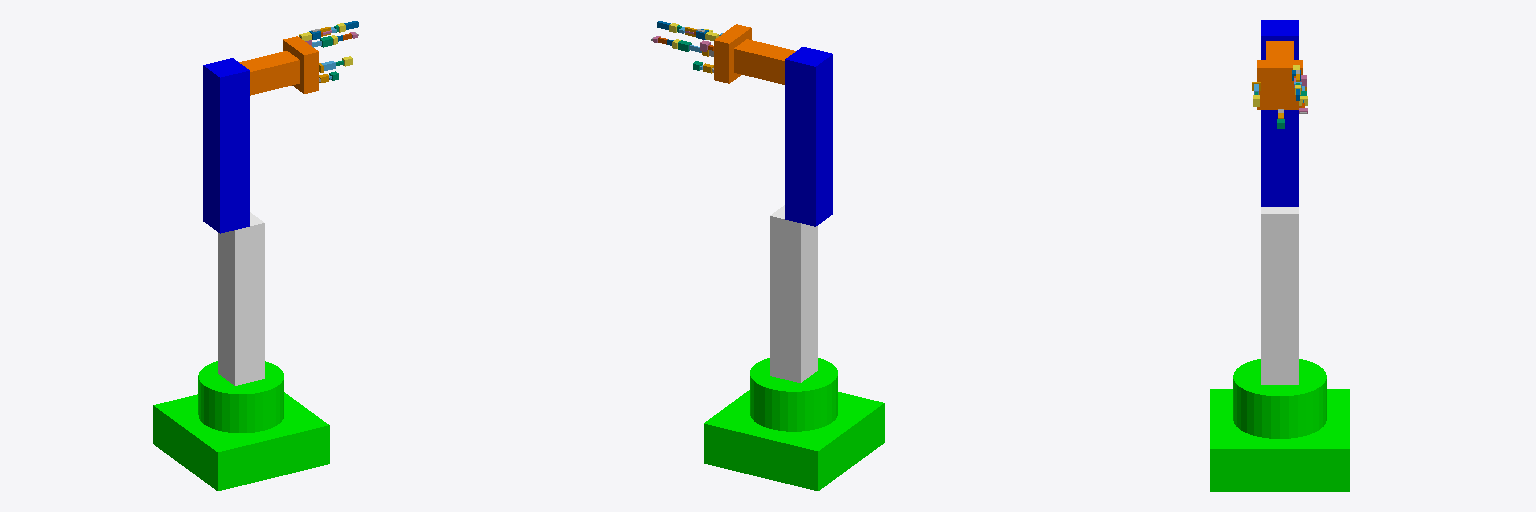
--- Facts derived from the render (not from the file) ---
The picture shows the robot from 3 angles, left to right: view 1: azimuth 30°, elevation 25°; view 2: azimuth 150°, elevation 25°; view 3: azimuth 270°, elevation 25°; orthographic projection.
Robot: robot — 37 links, 36 joints (33 revolute, 1 continuous, 2 fixed); root link base_link; default pose: every joint at zero.
Visible links, largest first — view 1: base_link, arm_link, support_link, wrist_link, palm_link; view 2: base_link, arm_link, support_link, wrist_link, palm_link; view 3: base_link, support_link, arm_link, palm_link, wrist_link.
Link boxes in pixels (bbox=[...]): base_link: bbox=[153, 361, 329, 490]; arm_link: bbox=[203, 58, 249, 233]; support_link: bbox=[218, 212, 264, 385]; wrist_link: bbox=[239, 51, 299, 95]; palm_link: bbox=[283, 36, 318, 93]; base_link: bbox=[704, 358, 884, 490]; arm_link: bbox=[785, 47, 832, 226]; support_link: bbox=[770, 205, 817, 382]; wrist_link: bbox=[734, 39, 795, 84]; palm_link: bbox=[714, 24, 751, 83]; base_link: bbox=[1210, 359, 1349, 491]; support_link: bbox=[1261, 207, 1298, 384]; arm_link: bbox=[1261, 20, 1298, 206]; palm_link: bbox=[1257, 60, 1302, 109]; wrist_link: bbox=[1266, 41, 1293, 59].
Size in the robot's own frame: 1.22 by 0.75 by 2.55 metres.
Geometry: primitives only (box / cylinder / sphere), no mesh files.

The robot description file, URDF, robot "robot":
<?xml version='1.0' encoding='utf-8'?>
<robot name="robot">
  <link name="base_link">
    <visual>
      <origin xyz="0 0 0.125" rpy="0 0 0" />
      <geometry>
        <box size="0.75 0.75 0.25" />
      </geometry>
      <material name="green" />
    </visual>
    <visual>
      <origin xyz="0 0 0.375" rpy="0 0 0" />
      <geometry>
        <cylinder length="0.25" radius="0.25" />
      </geometry>
      <material name="green">
        <color rgba="0 1 0 1" />
      </material>
    </visual>
    <collision>
      <geometry>
        <box size="0.75 0.75 0.5" />
      </geometry>
    </collision>
    <inertial>
      <mass value="0.5" />
      <inertia ixx="0.034" ixy="0.0" ixz="0.0" iyy="0.034" iyz="0.0" izz="0.034" />
    </inertial>
  </link>
  <link name="support_link">
    <visual>
      <origin xyz="0 0 0.5" rpy="0 0 0" />
      <geometry>
        <box size="0.2 0.2 1" />
      </geometry>
      <material name="white">
        <color rgba="1 1 1 1" />
      </material>
    </visual>
    <collision>
      <geometry>
        <box size="0.2 0.2 1" />
      </geometry>
    </collision>
    <inertial>
      <mass value="0.1" />
      <inertia ixx="0.01" ixy="0.0" ixz="0.0" iyy="0.01" iyz="0.0" izz="0.01" />
    </inertial>
  </link>
  <joint name="support_joint" type="continuous">
    <origin xyz="0 0 0.5" rpy="0 0 0" />
    <parent link="base_link" />
    <child link="support_link" />
    <axis xyz="0 0 1" />
  </joint>
  <link name="arm_link">
    <visual>
      <origin xyz="0 0 0.5" rpy="0 0 0" />
      <geometry>
        <box size="0.2 0.2 1" />
      </geometry>
      <material name="blue">
        <color rgba="0 0 1 1" />
      </material>
    </visual>
    <collision>
      <geometry>
        <box size="0.2 0.2 1" />
      </geometry>
    </collision>
    <inertial>
      <mass value="0.1" />
      <inertia ixx="0.01" ixy="0.0" ixz="0.0" iyy="0.01" iyz="0.0" izz="0.01" />
    </inertial>
  </link>
  <joint name="arm_joint" type="revolute">
    <origin xyz="-0.1 0 1" rpy="0 0 0" />
    <parent link="support_link" />
    <child link="arm_link" />
    <axis xyz="0 1 0" />
    <limit lower="-3.14" upper="3.14" effort="1.0" velocity="1.0" />
  </joint>
  <link name="wrist_link">
    <visual>
      <origin xyz="0 0 0.25" rpy="0 0 0" />
      <geometry>
        <box size="0.15 0.15 0.5" />
      </geometry>
      <material name="orange">
        <color rgba="1 0.5 0 1" />
      </material>
    </visual>
    <collision>
      <geometry>
        <box size="0.15 0.15 0.5" />
      </geometry>
    </collision>
    <inertial>
      <mass value="0.1" />
      <inertia ixx="0.01" ixy="0.0" ixz="0.0" iyy="0.01" iyz="0.0" izz="0.01" />
    </inertial>
  </link>
  <joint name="wrist_joint" type="fixed">
    <origin xyz="0 0 0.9" rpy="0 1.571 0" />
    <parent link="arm_link" />
    <child link="wrist_link" />
  </joint>
  <link name="palm_link">
    <visual>
      <origin xyz="0 0 0.05" rpy="0 0 0" />
      <geometry>
        <box size="0.25 0.25 0.1" />
      </geometry>
      <material name="orange" />
    </visual>
    <collision>
      <geometry>
        <box size="0.25 0.25 0.1" />
      </geometry>
    </collision>
    <inertial>
      <mass value="0.1" />
      <inertia ixx="0.01" ixy="0.0" ixz="0.0" iyy="0.01" iyz="0.0" izz="0.01" />
    </inertial>
  </link>
  <joint name="palm_joint" type="fixed">
    <origin xyz="0 0 0.45" rpy="0 0 0" />
    <parent link="wrist_link" />
    <child link="palm_link" />
  </joint>
  <link name="finger_link_0_0">
    <visual>
      <origin xyz="0 0 0.0165" rpy="0 0 0" />
      <geometry>
        <box size="0.022 0.02 0.033" />
      </geometry>
    </visual>
    <collision>
      <geometry>
        <box size="0.022 0.02 0.033" />
      </geometry>
    </collision>
    <inertial>
      <mass value="0.004" />
      <inertia ixx="0.0" iyy="0.0" izz="0.0" ixy="0" ixz="0" iyz="0" />
    </inertial>
  </link>
  <joint name="finger_joint_palm_link_to_finger_link_0_0" type="revolute">
    <origin xyz="-0.073 0.125 0.1" rpy="0 0 0" />
    <parent link="palm_link" />
    <child link="finger_link_0_0" />
    <axis xyz="-1.0 0.0 0.0" />
    <limit lower="-3.142" upper="3.142" effort="10" velocity="10" />
  </joint>
  <link name="finger_link_0_1">
    <visual>
      <origin xyz="0 0 0.025" rpy="0 0 0" />
      <geometry>
        <box size="0.048 0.042 0.05" />
      </geometry>
    </visual>
    <collision>
      <geometry>
        <box size="0.048 0.042 0.05" />
      </geometry>
    </collision>
    <inertial>
      <mass value="0.03" />
      <inertia ixx="0.0" iyy="0.0" izz="0.0" ixy="0" ixz="0" iyz="0" />
    </inertial>
  </link>
  <joint name="finger_joint_finger_link_0_0_to_finger_link_0_1" type="revolute">
    <origin xyz="0.0 0.0 0.033" rpy="0 0 0" />
    <parent link="finger_link_0_0" />
    <child link="finger_link_0_1" />
    <axis xyz="0.0 1.0 0.0" />
    <limit lower="-3.142" upper="3.142" effort="10" velocity="10" />
  </joint>
  <link name="finger_link_1_0">
    <visual>
      <origin xyz="0 0 0.0385" rpy="0 0 0" />
      <geometry>
        <box size="0.019 0.029 0.077" />
      </geometry>
    </visual>
    <collision>
      <geometry>
        <box size="0.019 0.029 0.077" />
      </geometry>
    </collision>
    <inertial>
      <mass value="0.013" />
      <inertia ixx="0.0" iyy="0.0" izz="0.0" ixy="0" ixz="0" iyz="0" />
    </inertial>
  </link>
  <joint name="finger_joint_palm_link_to_finger_link_1_0" type="revolute">
    <origin xyz="0.125 0.006 0.1" rpy="0 0 0" />
    <parent link="palm_link" />
    <child link="finger_link_1_0" />
    <axis xyz="0.0 1.0 0.0" />
    <limit lower="-3.142" upper="3.142" effort="10" velocity="10" />
  </joint>
  <link name="finger_link_1_1">
    <visual>
      <origin xyz="0 0 0.029" rpy="0 0 0" />
      <geometry>
        <box size="0.038 0.031 0.058" />
      </geometry>
    </visual>
    <collision>
      <geometry>
        <box size="0.038 0.031 0.058" />
      </geometry>
    </collision>
    <inertial>
      <mass value="0.02" />
      <inertia ixx="0.0" iyy="0.0" izz="0.0" ixy="0" ixz="0" iyz="0" />
    </inertial>
  </link>
  <joint name="finger_joint_finger_link_1_0_to_finger_link_1_1" type="revolute">
    <origin xyz="0.0 0.0 0.077" rpy="0 0 0" />
    <parent link="finger_link_1_0" />
    <child link="finger_link_1_1" />
    <axis xyz="1.0 0.0 0.0" />
    <limit lower="-3.142" upper="3.142" effort="10" velocity="10" />
  </joint>
  <link name="finger_link_1_2">
    <visual>
      <origin xyz="0 0 0.009" rpy="0 0 0" />
      <geometry>
        <box size="0.014 0.037 0.018" />
      </geometry>
    </visual>
    <collision>
      <geometry>
        <box size="0.014 0.037 0.018" />
      </geometry>
    </collision>
    <inertial>
      <mass value="0.003" />
      <inertia ixx="0.0" iyy="0.0" izz="0.0" ixy="0" ixz="0" iyz="0" />
    </inertial>
  </link>
  <joint name="finger_joint_finger_link_1_1_to_finger_link_1_2" type="revolute">
    <origin xyz="0.0 0.0 0.058" rpy="0 0 0" />
    <parent link="finger_link_1_1" />
    <child link="finger_link_1_2" />
    <axis xyz="0.0 1.0 0.0" />
    <limit lower="-3.142" upper="3.142" effort="10" velocity="10" />
  </joint>
  <link name="finger_link_1_3">
    <visual>
      <origin xyz="0 0 0.0225" rpy="0 0 0" />
      <geometry>
        <box size="0.036 0.041 0.045" />
      </geometry>
    </visual>
    <collision>
      <geometry>
        <box size="0.036 0.041 0.045" />
      </geometry>
    </collision>
    <inertial>
      <mass value="0.02" />
      <inertia ixx="0.0" iyy="0.0" izz="0.0" ixy="0" ixz="0" iyz="0" />
    </inertial>
  </link>
  <joint name="finger_joint_finger_link_1_2_to_finger_link_1_3" type="revolute">
    <origin xyz="0.0 0.0 0.018" rpy="0 0 0" />
    <parent link="finger_link_1_2" />
    <child link="finger_link_1_3" />
    <axis xyz="0.0 1.0 0.0" />
    <limit lower="-3.142" upper="3.142" effort="10" velocity="10" />
  </joint>
  <link name="finger_link_2_0">
    <visual>
      <origin xyz="0 0 0.0335" rpy="0 0 0" />
      <geometry>
        <box size="0.034 0.038 0.067" />
      </geometry>
    </visual>
    <collision>
      <geometry>
        <box size="0.034 0.038 0.067" />
      </geometry>
    </collision>
    <inertial>
      <mass value="0.026" />
      <inertia ixx="0.0" iyy="0.0" izz="0.0" ixy="0" ixz="0" iyz="0" />
    </inertial>
  </link>
  <joint name="finger_joint_palm_link_to_finger_link_2_0" type="revolute">
    <origin xyz="-0.125 0.09 0.1" rpy="0 0 0" />
    <parent link="palm_link" />
    <child link="finger_link_2_0" />
    <axis xyz="0.0 -1.0 0.0" />
    <limit lower="-3.142" upper="3.142" effort="10" velocity="10" />
  </joint>
  <link name="finger_link_2_1">
    <visual>
      <origin xyz="0 0 0.029" rpy="0 0 0" />
      <geometry>
        <box size="0.041 0.047 0.058" />
      </geometry>
    </visual>
    <collision>
      <geometry>
        <box size="0.041 0.047 0.058" />
      </geometry>
    </collision>
    <inertial>
      <mass value="0.034" />
      <inertia ixx="0.0" iyy="0.0" izz="0.0" ixy="0" ixz="0" iyz="0" />
    </inertial>
  </link>
  <joint name="finger_joint_finger_link_2_0_to_finger_link_2_1" type="revolute">
    <origin xyz="0.0 0.0 0.067" rpy="0 0 0" />
    <parent link="finger_link_2_0" />
    <child link="finger_link_2_1" />
    <axis xyz="1.0 0.0 0.0" />
    <limit lower="-3.142" upper="3.142" effort="10" velocity="10" />
  </joint>
  <link name="finger_link_2_2">
    <visual>
      <origin xyz="0 0 0.009" rpy="0 0 0" />
      <geometry>
        <box size="0.019 0.031 0.018" />
      </geometry>
    </visual>
    <collision>
      <geometry>
        <box size="0.019 0.031 0.018" />
      </geometry>
    </collision>
    <inertial>
      <mass value="0.003" />
      <inertia ixx="0.0" iyy="0.0" izz="0.0" ixy="0" ixz="0" iyz="0" />
    </inertial>
  </link>
  <joint name="finger_joint_finger_link_2_1_to_finger_link_2_2" type="revolute">
    <origin xyz="0.0 0.0 0.058" rpy="0 0 0" />
    <parent link="finger_link_2_1" />
    <child link="finger_link_2_2" />
    <axis xyz="0.0 1.0 0.0" />
    <limit lower="-3.142" upper="3.142" effort="10" velocity="10" />
  </joint>
  <link name="finger_link_2_3">
    <visual>
      <origin xyz="0 0 0.0455" rpy="0 0 0" />
      <geometry>
        <box size="0.012 0.033 0.091" />
      </geometry>
    </visual>
    <collision>
      <geometry>
        <box size="0.012 0.033 0.091" />
      </geometry>
    </collision>
    <inertial>
      <mass value="0.011" />
      <inertia ixx="0.0" iyy="0.0" izz="0.0" ixy="0" ixz="0" iyz="0" />
    </inertial>
  </link>
  <joint name="finger_joint_finger_link_2_2_to_finger_link_2_3" type="revolute">
    <origin xyz="0.0 0.0 0.018" rpy="0 0 0" />
    <parent link="finger_link_2_2" />
    <child link="finger_link_2_3" />
    <axis xyz="1.0 1.0 0.0" />
    <limit lower="-3.142" upper="3.142" effort="10" velocity="10" />
  </joint>
  <link name="finger_link_3_0">
    <visual>
      <origin xyz="0 0 0.014" rpy="0 0 0" />
      <geometry>
        <box size="0.042 0.011 0.028" />
      </geometry>
    </visual>
    <collision>
      <geometry>
        <box size="0.042 0.011 0.028" />
      </geometry>
    </collision>
    <inertial>
      <mass value="0.004" />
      <inertia ixx="0.0" iyy="0.0" izz="0.0" ixy="0" ixz="0" iyz="0" />
    </inertial>
  </link>
  <joint name="finger_joint_palm_link_to_finger_link_3_0" type="revolute">
    <origin xyz="-0.043 0.125 0.1" rpy="0 0 0" />
    <parent link="palm_link" />
    <child link="finger_link_3_0" />
    <axis xyz="-1.0 0.0 0.0" />
    <limit lower="-3.142" upper="3.142" effort="10" velocity="10" />
  </joint>
  <link name="finger_link_3_1">
    <visual>
      <origin xyz="0 0 0.02" rpy="0 0 0" />
      <geometry>
        <box size="0.041 0.037 0.04" />
      </geometry>
    </visual>
    <collision>
      <geometry>
        <box size="0.041 0.037 0.04" />
      </geometry>
    </collision>
    <inertial>
      <mass value="0.018" />
      <inertia ixx="0.0" iyy="0.0" izz="0.0" ixy="0" ixz="0" iyz="0" />
    </inertial>
  </link>
  <joint name="finger_joint_finger_link_3_0_to_finger_link_3_1" type="revolute">
    <origin xyz="0.0 0.0 0.028" rpy="0 0 0" />
    <parent link="finger_link_3_0" />
    <child link="finger_link_3_1" />
    <axis xyz="0.0 1.0 0.0" />
    <limit lower="-3.142" upper="3.142" effort="10" velocity="10" />
  </joint>
  <link name="finger_link_3_2">
    <visual>
      <origin xyz="0 0 0.045" rpy="0 0 0" />
      <geometry>
        <box size="0.029 0.011 0.09" />
      </geometry>
    </visual>
    <collision>
      <geometry>
        <box size="0.029 0.011 0.09" />
      </geometry>
    </collision>
    <inertial>
      <mass value="0.009" />
      <inertia ixx="0.0" iyy="0.0" izz="0.0" ixy="0" ixz="0" iyz="0" />
    </inertial>
  </link>
  <joint name="finger_joint_finger_link_3_1_to_finger_link_3_2" type="revolute">
    <origin xyz="0.0 0.0 0.04" rpy="0 0 0" />
    <parent link="finger_link_3_1" />
    <child link="finger_link_3_2" />
    <axis xyz="1.0 0.0 0.0" />
    <limit lower="-3.142" upper="3.142" effort="10" velocity="10" />
  </joint>
  <link name="finger_link_3_3">
    <visual>
      <origin xyz="0 0 0.0345" rpy="0 0 0" />
      <geometry>
        <box size="0.043 0.04 0.069" />
      </geometry>
    </visual>
    <collision>
      <geometry>
        <box size="0.043 0.04 0.069" />
      </geometry>
    </collision>
    <inertial>
      <mass value="0.036" />
      <inertia ixx="0.0" iyy="0.0" izz="0.0" ixy="0" ixz="0" iyz="0" />
    </inertial>
  </link>
  <joint name="finger_joint_finger_link_3_2_to_finger_link_3_3" type="revolute">
    <origin xyz="0.0 0.0 0.09" rpy="0 0 0" />
    <parent link="finger_link_3_2" />
    <child link="finger_link_3_3" />
    <axis xyz="0.0 1.0 0.0" />
    <limit lower="-3.142" upper="3.142" effort="10" velocity="10" />
  </joint>
  <link name="finger_link_3_4">
    <visual>
      <origin xyz="0 0 0.0165" rpy="0 0 0" />
      <geometry>
        <box size="0.04 0.045 0.033" />
      </geometry>
    </visual>
    <collision>
      <geometry>
        <box size="0.04 0.045 0.033" />
      </geometry>
    </collision>
    <inertial>
      <mass value="0.018" />
      <inertia ixx="0.0" iyy="0.0" izz="0.0" ixy="0" ixz="0" iyz="0" />
    </inertial>
  </link>
  <joint name="finger_joint_finger_link_3_3_to_finger_link_3_4" type="revolute">
    <origin xyz="0.0 0.0 0.069" rpy="0 0 0" />
    <parent link="finger_link_3_3" />
    <child link="finger_link_3_4" />
    <axis xyz="1.0 0.0 0.0" />
    <limit lower="-3.142" upper="3.142" effort="10" velocity="10" />
  </joint>
  <link name="finger_link_3_5">
    <visual>
      <origin xyz="0 0 0.021" rpy="0 0 0" />
      <geometry>
        <box size="0.031 0.01 0.042" />
      </geometry>
    </visual>
    <collision>
      <geometry>
        <box size="0.031 0.01 0.042" />
      </geometry>
    </collision>
    <inertial>
      <mass value="0.004" />
      <inertia ixx="0.0" iyy="0.0" izz="0.0" ixy="0" ixz="0" iyz="0" />
    </inertial>
  </link>
  <joint name="finger_joint_finger_link_3_4_to_finger_link_3_5" type="revolute">
    <origin xyz="0.0 0.0 0.033" rpy="0 0 0" />
    <parent link="finger_link_3_4" />
    <child link="finger_link_3_5" />
    <axis xyz="0.0 1.0 0.0" />
    <limit lower="-3.142" upper="3.142" effort="10" velocity="10" />
  </joint>
  <link name="finger_link_3_6">
    <visual>
      <origin xyz="0 0 0.029" rpy="0 0 0" />
      <geometry>
        <box size="0.029 0.015 0.058" />
      </geometry>
    </visual>
    <collision>
      <geometry>
        <box size="0.029 0.015 0.058" />
      </geometry>
    </collision>
    <inertial>
      <mass value="0.008" />
      <inertia ixx="0.0" iyy="0.0" izz="0.0" ixy="0" ixz="0" iyz="0" />
    </inertial>
  </link>
  <joint name="finger_joint_finger_link_3_5_to_finger_link_3_6" type="revolute">
    <origin xyz="0.0 0.0 0.042" rpy="0 0 0" />
    <parent link="finger_link_3_5" />
    <child link="finger_link_3_6" />
    <axis xyz="0.0 1.0 0.0" />
    <limit lower="-3.142" upper="3.142" effort="10" velocity="10" />
  </joint>
  <link name="finger_link_3_7">
    <visual>
      <origin xyz="0 0 0.014" rpy="0 0 0" />
      <geometry>
        <box size="0.022 0.046 0.028" />
      </geometry>
    </visual>
    <collision>
      <geometry>
        <box size="0.022 0.046 0.028" />
      </geometry>
    </collision>
    <inertial>
      <mass value="0.009" />
      <inertia ixx="0.0" iyy="0.0" izz="0.0" ixy="0" ixz="0" iyz="0" />
    </inertial>
  </link>
  <joint name="finger_joint_finger_link_3_6_to_finger_link_3_7" type="revolute">
    <origin xyz="0.0 0.0 0.058" rpy="0 0 0" />
    <parent link="finger_link_3_6" />
    <child link="finger_link_3_7" />
    <axis xyz="1.0 1.0 0.0" />
    <limit lower="-3.142" upper="3.142" effort="10" velocity="10" />
  </joint>
  <link name="finger_link_3_8">
    <visual>
      <origin xyz="0 0 0.0055" rpy="0 0 0" />
      <geometry>
        <box size="0.011 0.037 0.011" />
      </geometry>
    </visual>
    <collision>
      <geometry>
        <box size="0.011 0.037 0.011" />
      </geometry>
    </collision>
    <inertial>
      <mass value="0.001" />
      <inertia ixx="0.0" iyy="0.0" izz="0.0" ixy="0" ixz="0" iyz="0" />
    </inertial>
  </link>
  <joint name="finger_joint_finger_link_3_7_to_finger_link_3_8" type="revolute">
    <origin xyz="0.0 0.0 0.028" rpy="0 0 0" />
    <parent link="finger_link_3_7" />
    <child link="finger_link_3_8" />
    <axis xyz="0.0 1.0 0.0" />
    <limit lower="-3.142" upper="3.142" effort="10" velocity="10" />
  </joint>
  <link name="finger_link_4_0">
    <visual>
      <origin xyz="0 0 0.008" rpy="0 0 0" />
      <geometry>
        <box size="0.044 0.047 0.016" />
      </geometry>
    </visual>
    <collision>
      <geometry>
        <box size="0.044 0.047 0.016" />
      </geometry>
    </collision>
    <inertial>
      <mass value="0.01" />
      <inertia ixx="0.0" iyy="0.0" izz="0.0" ixy="0" ixz="0" iyz="0" />
    </inertial>
  </link>
  <joint name="finger_joint_palm_link_to_finger_link_4_0" type="revolute">
    <origin xyz="-0.019 -0.125 0.1" rpy="0 0 0" />
    <parent link="palm_link" />
    <child link="finger_link_4_0" />
    <axis xyz="1.0 0.0 0.0" />
    <limit lower="-3.142" upper="3.142" effort="10" velocity="10" />
  </joint>
  <link name="finger_link_4_1">
    <visual>
      <origin xyz="0 0 0.043" rpy="0 0 0" />
      <geometry>
        <box size="0.04 0.031 0.086" />
      </geometry>
    </visual>
    <collision>
      <geometry>
        <box size="0.04 0.031 0.086" />
      </geometry>
    </collision>
    <inertial>
      <mass value="0.032" />
      <inertia ixx="0.0" iyy="0.0" izz="0.0" ixy="0" ixz="0" iyz="0" />
    </inertial>
  </link>
  <joint name="finger_joint_finger_link_4_0_to_finger_link_4_1" type="revolute">
    <origin xyz="0.0 0.0 0.016" rpy="0 0 0" />
    <parent link="finger_link_4_0" />
    <child link="finger_link_4_1" />
    <axis xyz="0.0 1.0 0.0" />
    <limit lower="-3.142" upper="3.142" effort="10" velocity="10" />
  </joint>
  <link name="finger_link_4_2">
    <visual>
      <origin xyz="0 0 0.0305" rpy="0 0 0" />
      <geometry>
        <box size="0.021 0.014 0.061" />
      </geometry>
    </visual>
    <collision>
      <geometry>
        <box size="0.021 0.014 0.061" />
      </geometry>
    </collision>
    <inertial>
      <mass value="0.005" />
      <inertia ixx="0.0" iyy="0.0" izz="0.0" ixy="0" ixz="0" iyz="0" />
    </inertial>
  </link>
  <joint name="finger_joint_finger_link_4_1_to_finger_link_4_2" type="revolute">
    <origin xyz="0.0 0.0 0.086" rpy="0 0 0" />
    <parent link="finger_link_4_1" />
    <child link="finger_link_4_2" />
    <axis xyz="1.0 0.0 0.0" />
    <limit lower="-3.142" upper="3.142" effort="10" velocity="10" />
  </joint>
  <link name="finger_link_4_3">
    <visual>
      <origin xyz="0 0 0.0265" rpy="0 0 0" />
      <geometry>
        <box size="0.042 0.033 0.053" />
      </geometry>
    </visual>
    <collision>
      <geometry>
        <box size="0.042 0.033 0.053" />
      </geometry>
    </collision>
    <inertial>
      <mass value="0.022" />
      <inertia ixx="0.0" iyy="0.0" izz="0.0" ixy="0" ixz="0" iyz="0" />
    </inertial>
  </link>
  <joint name="finger_joint_finger_link_4_2_to_finger_link_4_3" type="revolute">
    <origin xyz="0.0 0.0 0.061" rpy="0 0 0" />
    <parent link="finger_link_4_2" />
    <child link="finger_link_4_3" />
    <axis xyz="1.0 0.0 0.0" />
    <limit lower="-3.142" upper="3.142" effort="10" velocity="10" />
  </joint>
  <link name="finger_link_5_0">
    <visual>
      <origin xyz="0 0 0.0135" rpy="0 0 0" />
      <geometry>
        <box size="0.019 0.013 0.027" />
      </geometry>
    </visual>
    <collision>
      <geometry>
        <box size="0.019 0.013 0.027" />
      </geometry>
    </collision>
    <inertial>
      <mass value="0.002" />
      <inertia ixx="0.0" iyy="0.0" izz="0.0" ixy="0" ixz="0" iyz="0" />
    </inertial>
  </link>
  <joint name="finger_joint_palm_link_to_finger_link_5_0" type="revolute">
    <origin xyz="-0.125 0.096 0.1" rpy="0 0 0" />
    <parent link="palm_link" />
    <child link="finger_link_5_0" />
    <axis xyz="0.0 -1.0 0.0" />
    <limit lower="-3.142" upper="3.142" effort="10" velocity="10" />
  </joint>
  <link name="finger_link_5_1">
    <visual>
      <origin xyz="0 0 0.01" rpy="0 0 0" />
      <geometry>
        <box size="0.025 0.014 0.02" />
      </geometry>
    </visual>
    <collision>
      <geometry>
        <box size="0.025 0.014 0.02" />
      </geometry>
    </collision>
    <inertial>
      <mass value="0.002" />
      <inertia ixx="0.0" iyy="0.0" izz="0.0" ixy="0" ixz="0" iyz="0" />
    </inertial>
  </link>
  <joint name="finger_joint_finger_link_5_0_to_finger_link_5_1" type="revolute">
    <origin xyz="0.0 0.0 0.027" rpy="0 0 0" />
    <parent link="finger_link_5_0" />
    <child link="finger_link_5_1" />
    <axis xyz="1.0 0.0 0.0" />
    <limit lower="-3.142" upper="3.142" effort="10" velocity="10" />
  </joint>
  <link name="finger_link_5_2">
    <visual>
      <origin xyz="0 0 0.0165" rpy="0 0 0" />
      <geometry>
        <box size="0.026 0.014 0.033" />
      </geometry>
    </visual>
    <collision>
      <geometry>
        <box size="0.026 0.014 0.033" />
      </geometry>
    </collision>
    <inertial>
      <mass value="0.004" />
      <inertia ixx="0.0" iyy="0.0" izz="0.0" ixy="0" ixz="0" iyz="0" />
    </inertial>
  </link>
  <joint name="finger_joint_finger_link_5_1_to_finger_link_5_2" type="revolute">
    <origin xyz="0.0 0.0 0.02" rpy="0 0 0" />
    <parent link="finger_link_5_1" />
    <child link="finger_link_5_2" />
    <axis xyz="0.0 1.0 0.0" />
    <limit lower="-3.142" upper="3.142" effort="10" velocity="10" />
  </joint>
  <link name="finger_link_5_3">
    <visual>
      <origin xyz="0 0 0.024" rpy="0 0 0" />
      <geometry>
        <box size="0.05 0.02 0.048" />
      </geometry>
    </visual>
    <collision>
      <geometry>
        <box size="0.05 0.02 0.048" />
      </geometry>
    </collision>
    <inertial>
      <mass value="0.014" />
      <inertia ixx="0.0" iyy="0.0" izz="0.0" ixy="0" ixz="0" iyz="0" />
    </inertial>
  </link>
  <joint name="finger_joint_finger_link_5_2_to_finger_link_5_3" type="revolute">
    <origin xyz="0.0 0.0 0.033" rpy="0 0 0" />
    <parent link="finger_link_5_2" />
    <child link="finger_link_5_3" />
    <axis xyz="1.0 0.0 0.0" />
    <limit lower="-3.142" upper="3.142" effort="10" velocity="10" />
  </joint>
  <link name="finger_link_5_4">
    <visual>
      <origin xyz="0 0 0.037" rpy="0 0 0" />
      <geometry>
        <box size="0.044 0.018 0.074" />
      </geometry>
    </visual>
    <collision>
      <geometry>
        <box size="0.044 0.018 0.074" />
      </geometry>
    </collision>
    <inertial>
      <mass value="0.018" />
      <inertia ixx="0.0" iyy="0.0" izz="0.0" ixy="0" ixz="0" iyz="0" />
    </inertial>
  </link>
  <joint name="finger_joint_finger_link_5_3_to_finger_link_5_4" type="revolute">
    <origin xyz="0.0 0.0 0.048" rpy="0 0 0" />
    <parent link="finger_link_5_3" />
    <child link="finger_link_5_4" />
    <axis xyz="0.0 1.0 0.0" />
    <limit lower="-3.142" upper="3.142" effort="10" velocity="10" />
  </joint>
  <link name="finger_link_5_5">
    <visual>
      <origin xyz="0 0 0.0145" rpy="0 0 0" />
      <geometry>
        <box size="0.02 0.045 0.029" />
      </geometry>
    </visual>
    <collision>
      <geometry>
        <box size="0.02 0.045 0.029" />
      </geometry>
    </collision>
    <inertial>
      <mass value="0.008" />
      <inertia ixx="0.0" iyy="0.0" izz="0.0" ixy="0" ixz="0" iyz="0" />
    </inertial>
  </link>
  <joint name="finger_joint_finger_link_5_4_to_finger_link_5_5" type="revolute">
    <origin xyz="0.0 0.0 0.074" rpy="0 0 0" />
    <parent link="finger_link_5_4" />
    <child link="finger_link_5_5" />
    <axis xyz="0.0 1.0 0.0" />
    <limit lower="-3.142" upper="3.142" effort="10" velocity="10" />
  </joint>
  <link name="finger_link_5_6">
    <visual>
      <origin xyz="0 0 0.0115" rpy="0 0 0" />
      <geometry>
        <box size="0.036 0.02 0.023" />
      </geometry>
    </visual>
    <collision>
      <geometry>
        <box size="0.036 0.02 0.023" />
      </geometry>
    </collision>
    <inertial>
      <mass value="0.005" />
      <inertia ixx="0.0" iyy="0.0" izz="0.0" ixy="0" ixz="0" iyz="0" />
    </inertial>
  </link>
  <joint name="finger_joint_finger_link_5_5_to_finger_link_5_6" type="revolute">
    <origin xyz="0.0 0.0 0.029" rpy="0 0 0" />
    <parent link="finger_link_5_5" />
    <child link="finger_link_5_6" />
    <axis xyz="0.0 1.0 0.0" />
    <limit lower="-3.142" upper="3.142" effort="10" velocity="10" />
  </joint>
  <link name="finger_link_5_7">
    <visual>
      <origin xyz="0 0 0.022" rpy="0 0 0" />
      <geometry>
        <box size="0.04 0.037 0.044" />
      </geometry>
    </visual>
    <collision>
      <geometry>
        <box size="0.04 0.037 0.044" />
      </geometry>
    </collision>
    <inertial>
      <mass value="0.02" />
      <inertia ixx="0.0" iyy="0.0" izz="0.0" ixy="0" ixz="0" iyz="0" />
    </inertial>
  </link>
  <joint name="finger_joint_finger_link_5_6_to_finger_link_5_7" type="revolute">
    <origin xyz="0.0 0.0 0.023" rpy="0 0 0" />
    <parent link="finger_link_5_6" />
    <child link="finger_link_5_7" />
    <axis xyz="0.0 1.0 0.0" />
    <limit lower="-3.142" upper="3.142" effort="10" velocity="10" />
  </joint>
  <link name="finger_link_5_8">
    <visual>
      <origin xyz="0 0 0.043" rpy="0 0 0" />
      <geometry>
        <box size="0.034 0.024 0.086" />
      </geometry>
    </visual>
    <collision>
      <geometry>
        <box size="0.034 0.024 0.086" />
      </geometry>
    </collision>
    <inertial>
      <mass value="0.021" />
      <inertia ixx="0.0" iyy="0.0" izz="0.0" ixy="0" ixz="0" iyz="0" />
    </inertial>
  </link>
  <joint name="finger_joint_finger_link_5_7_to_finger_link_5_8" type="revolute">
    <origin xyz="0.0 0.0 0.044" rpy="0 0 0" />
    <parent link="finger_link_5_7" />
    <child link="finger_link_5_8" />
    <axis xyz="0.0 1.0 0.0" />
    <limit lower="-3.142" upper="3.142" effort="10" velocity="10" />
  </joint>
</robot>
